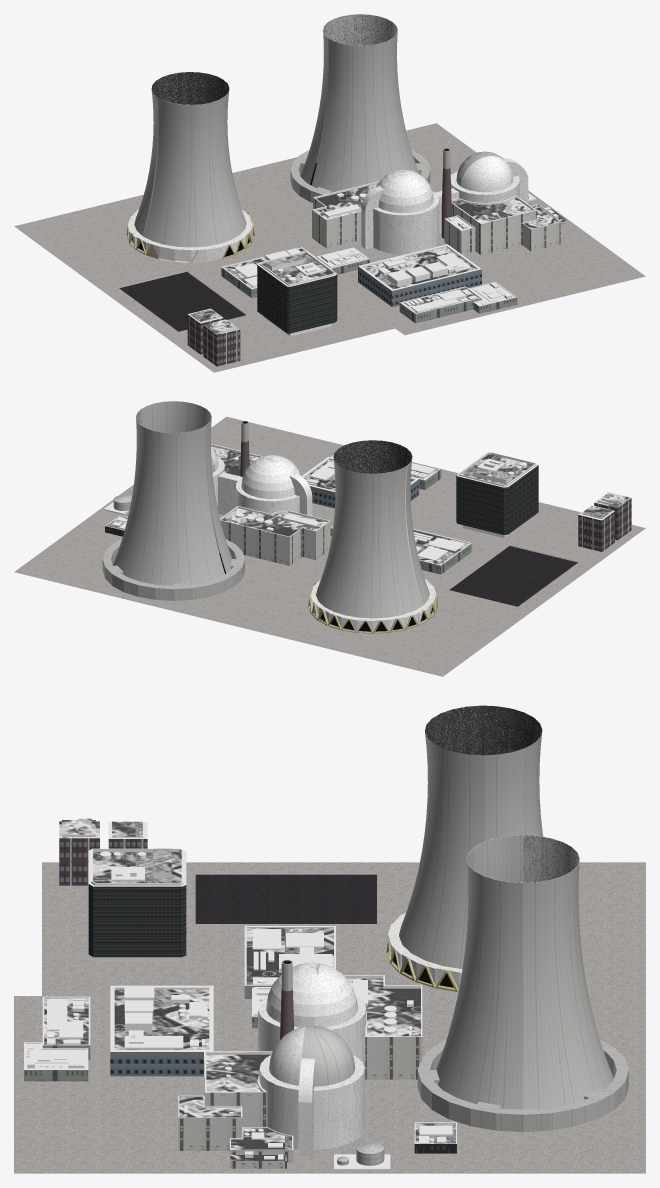
The model's file is PowerPlant.dae.
3 renders of one model, top to bottom at view 1: azimuth 30°, elevation 25°; view 2: azimuth 150°, elevation 25°; view 3: azimuth 270°, elevation 25°, orthographic. The views are drawn at different scales.
Visible parts, largest first — view 1: SketchUp (×24); view 2: SketchUp (×19); view 3: SketchUp (×30).
Boxes of the visible parts, x1,y1,x2,y2 form: SketchUp (×24): [14, 14, 645, 372]; SketchUp (×19): [14, 401, 645, 676]; SketchUp (×30): [14, 705, 645, 1173].
Bounding box in the file's own units: 10678 × 9165 × 3713.
25 materials, 15 textured.
